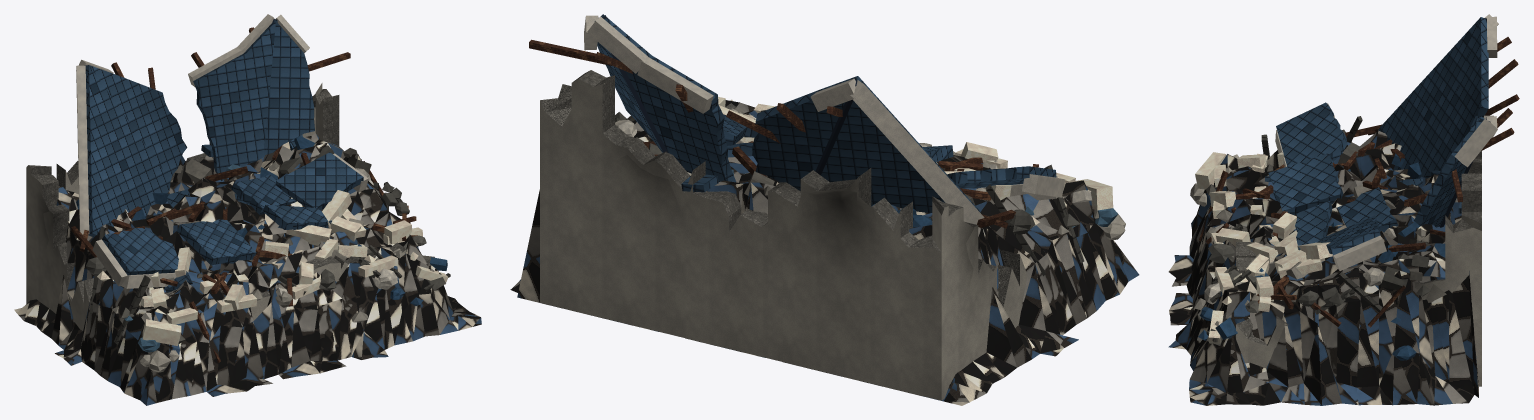
The model's file is CreBuild07b.glb.
3 renders of one model, left to right at view 1: azimuth 30°, elevation 25°; view 2: azimuth 150°, elevation 25°; view 3: azimuth 270°, elevation 25°, orthographic. The views are drawn at different scales.
Parts seen in each view (by area): view 1: CreBuild07b_wall; view 2: CreBuild07b_wall; view 3: CreBuild07b_wall.
Boxes of the visible parts, <box> form: CreBuild07b_wall: <box>14,14,481,405</box>; CreBuild07b_wall: <box>510,14,1139,405</box>; CreBuild07b_wall: <box>1168,14,1519,405</box>.
Size of the model in its own units: 14.48 by 8.74 by 11.28.
14 materials, 13 textured.
